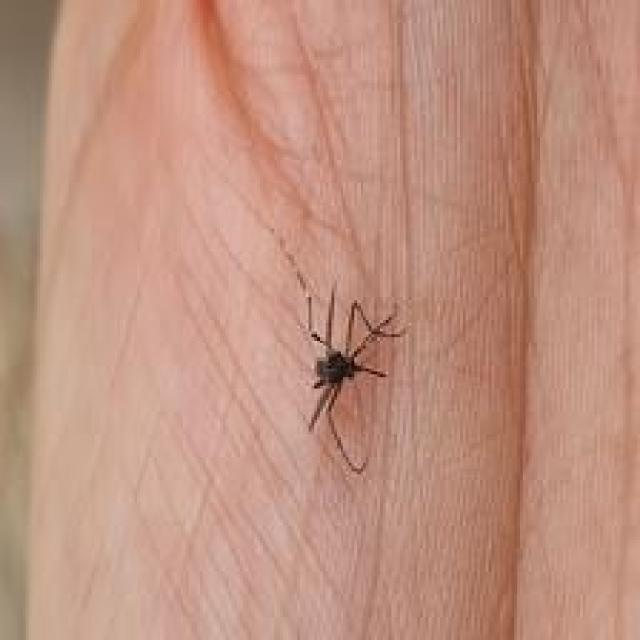Aedes albopictus: (294, 277, 406, 474)
